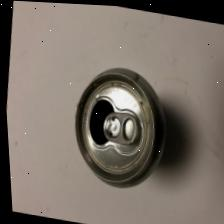metal: (43, 42, 198, 207)
